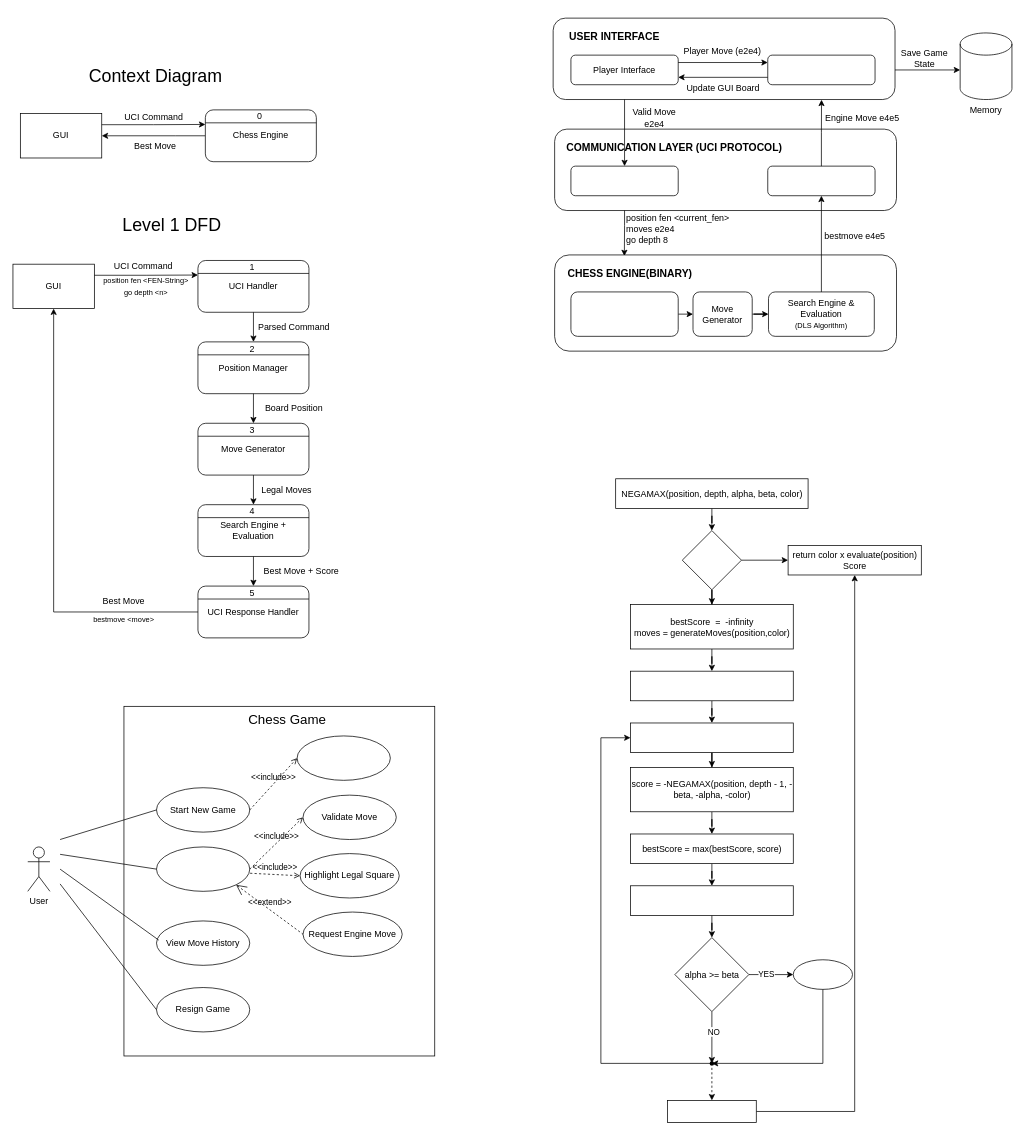
Image size: 1025x1136. Some labels were removed from this diagram. The centre of each missing label's shape, as x and y in pixels:
"alpha = max(alpha, score)" belongs at point (711, 900).
"Break" belongs at point (822, 974).
"Command Builder" belongs at point (624, 180).
"depth == 0" belongs at point (711, 560).
"For each move in moves" belongs at point (711, 685).
"Game State Manager" belongs at point (821, 69).
"makeMove(position, move)" belongs at point (711, 737).
"Move Piece" belongs at point (203, 868).
"Response Parser" belongs at point (821, 180).
"return bestScore" belongs at point (711, 1111).
"Select Difficulty Level" belongs at point (343, 757).
"UCI Handler (Readyok Handshake)" belongs at point (624, 313).
